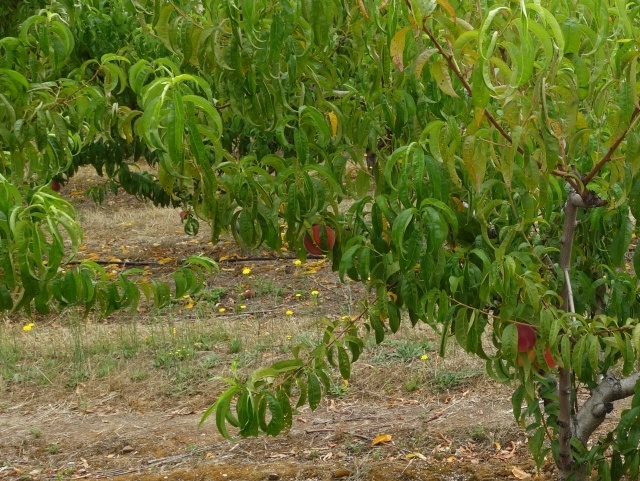peach: (301, 222, 339, 259), (507, 317, 541, 356), (533, 346, 559, 374)
